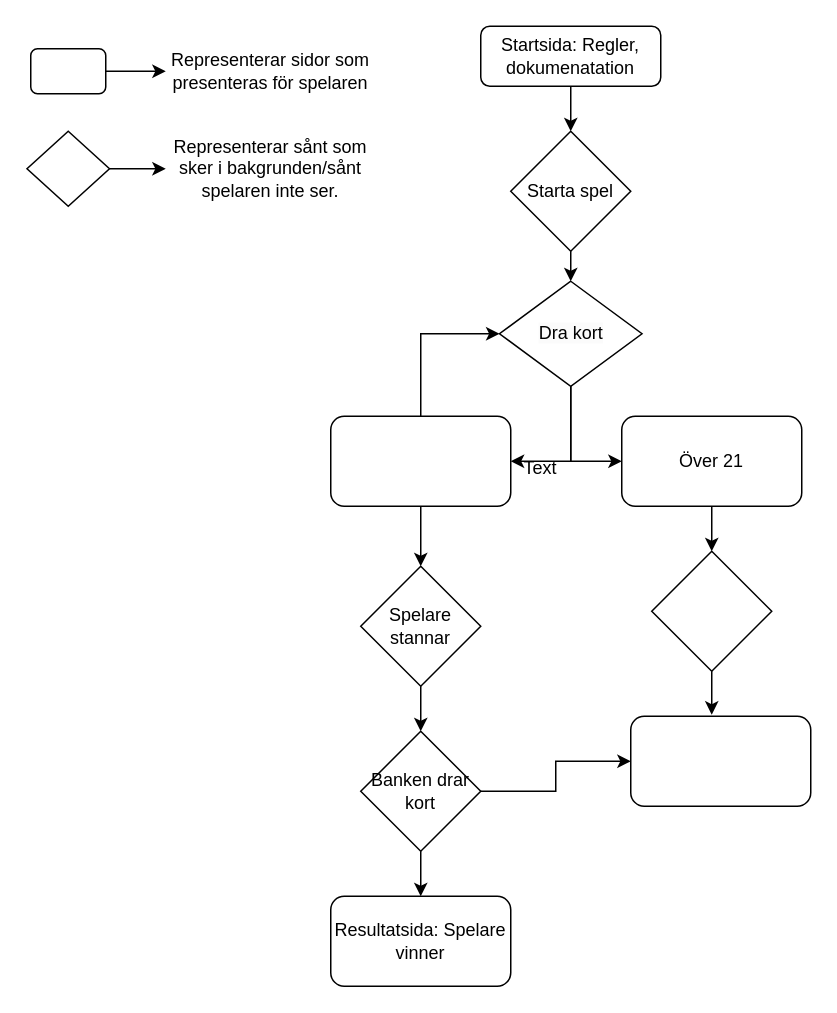
Some shapes in this 837 by 1013 pixel diagram are drawn without their labels. The shapes that lost their labels are listed below. From the top down, each one's centre as x and y in pixels, then its label:
At (420,460): "Under 21".
At (711,610): "Spel avslutas".
At (720,760): "Resultatsida: Banken vinner".
